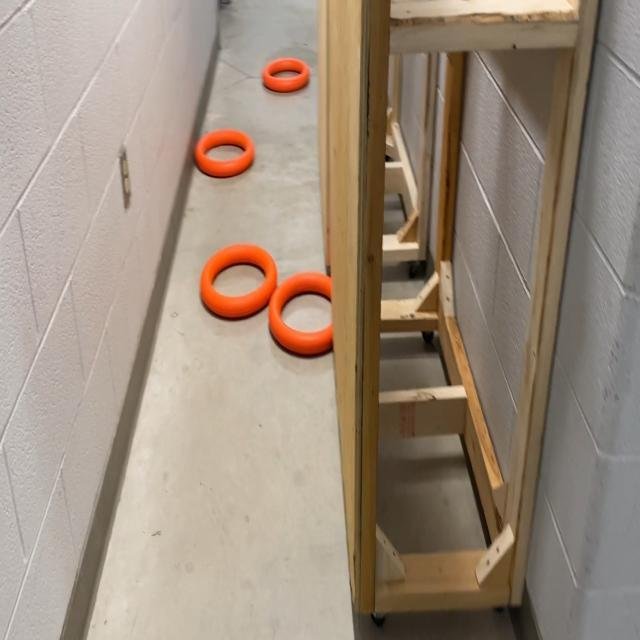note: (200, 240, 278, 322), (269, 273, 338, 359), (194, 125, 256, 177), (262, 55, 312, 95)
